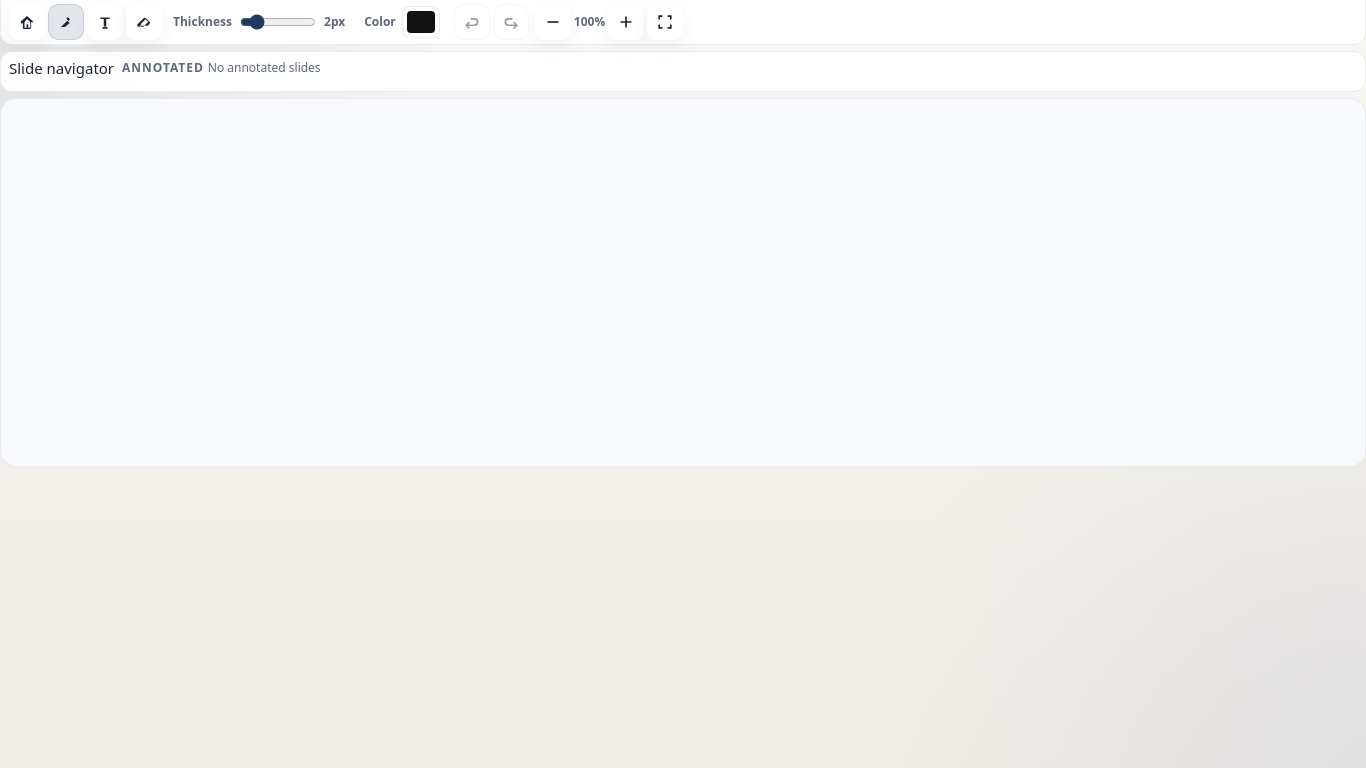
Scenario: PdfPreview › shows the compact slide-note controls without jump or download chrome
The width and height of the screenshot is (1366, 768).
Expected: the button named "Pen" is shown, [48,4,84,40]
Expected: the button named "Text" is shown, [87,4,123,40]
Click the button named "Enter full screen": (665, 22) [647,4,683,40]
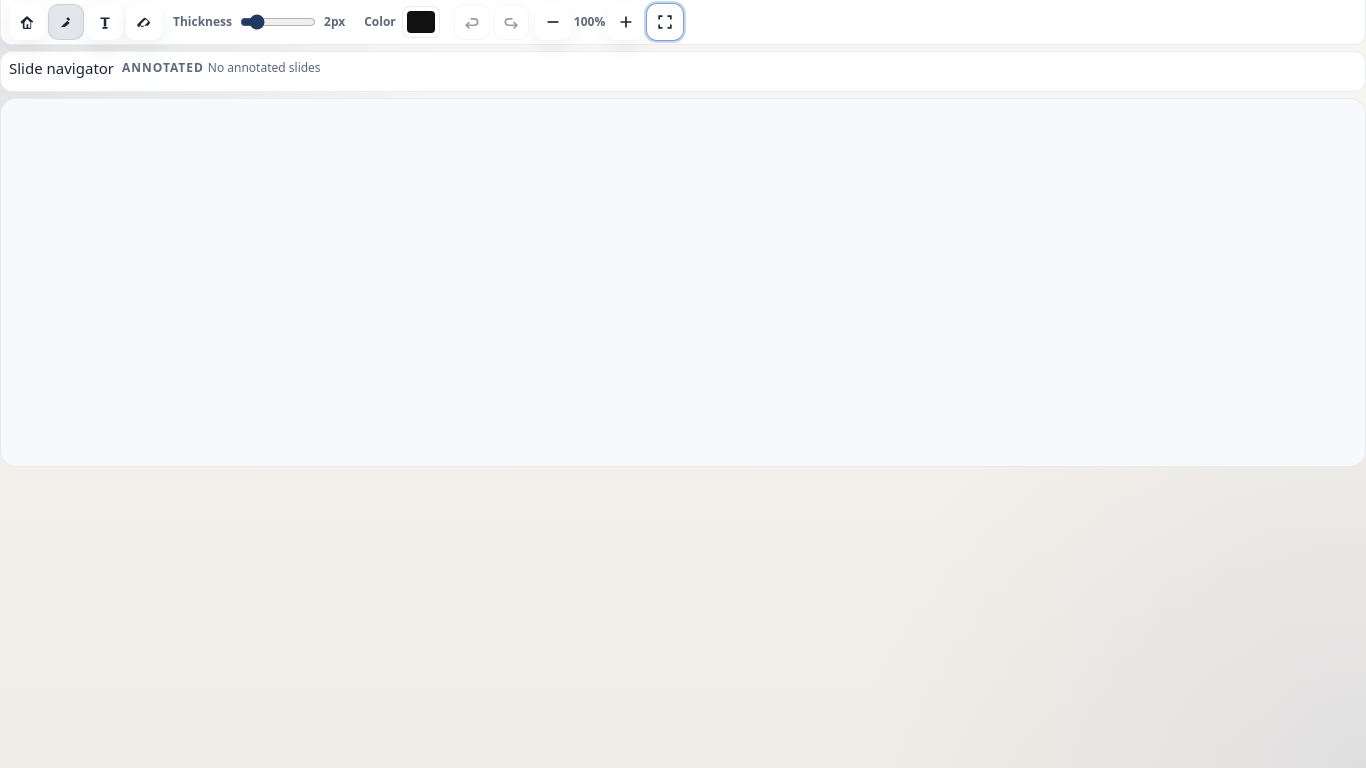
Expected: the slider named "Pen thickness" holds "2", [240,14,316,30]
Click the button named "Pen color": (421, 22) [402,6,440,38]
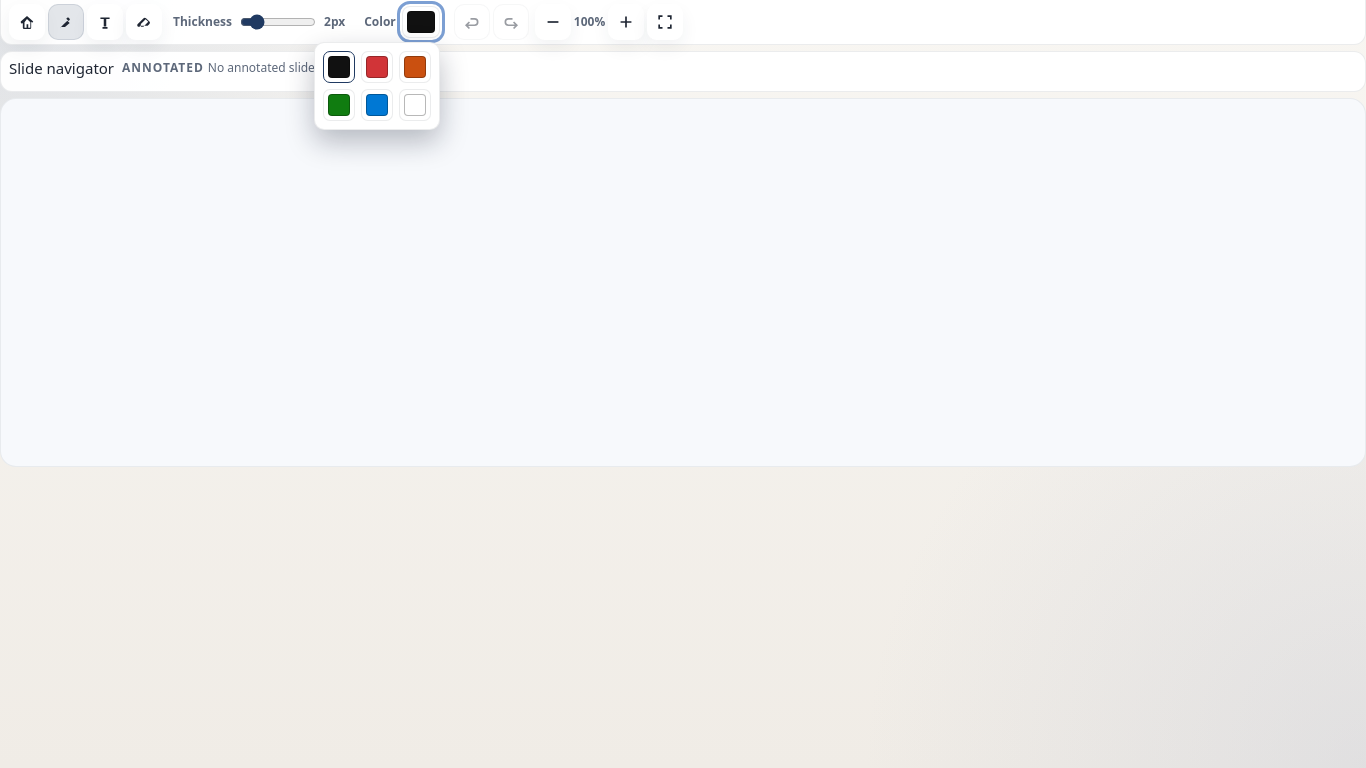
Expected: the number of options is 6, [323,51,355,83]; [361,51,393,83]; [399,51,431,83]; [323,89,355,121]; [361,89,393,121]; [399,89,431,121]
Expected: the option named "White" is shown, [399,89,431,121]
